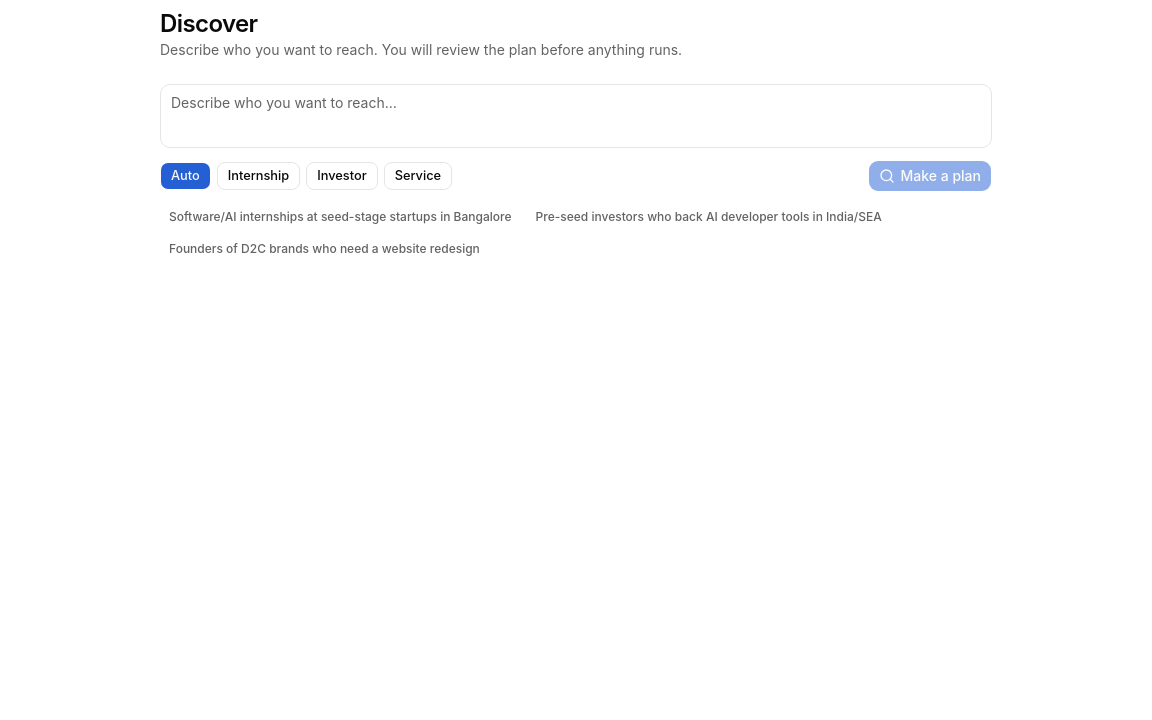
Test: DiscoverPage › flags a template plan clearly
Type "x" into the text box named "Who do you want to reach?" at (576, 116), box [160,84,992,148]
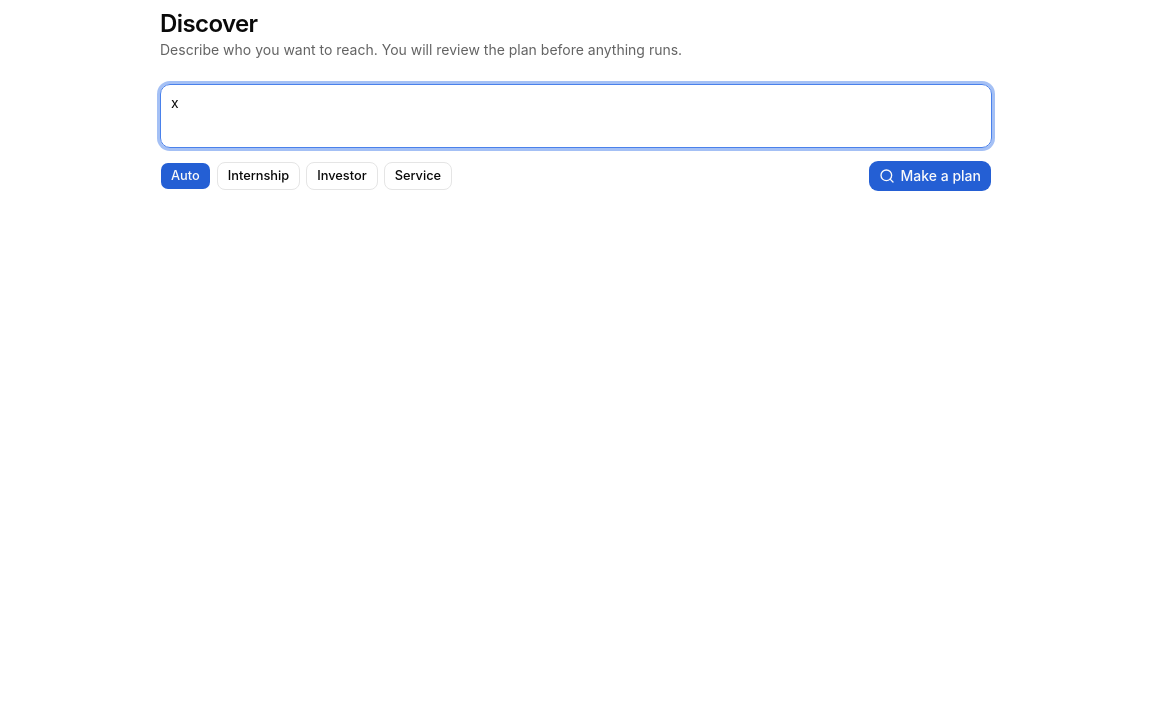
Click the button "Make a plan" at (930, 176), box [868,160,992,192]
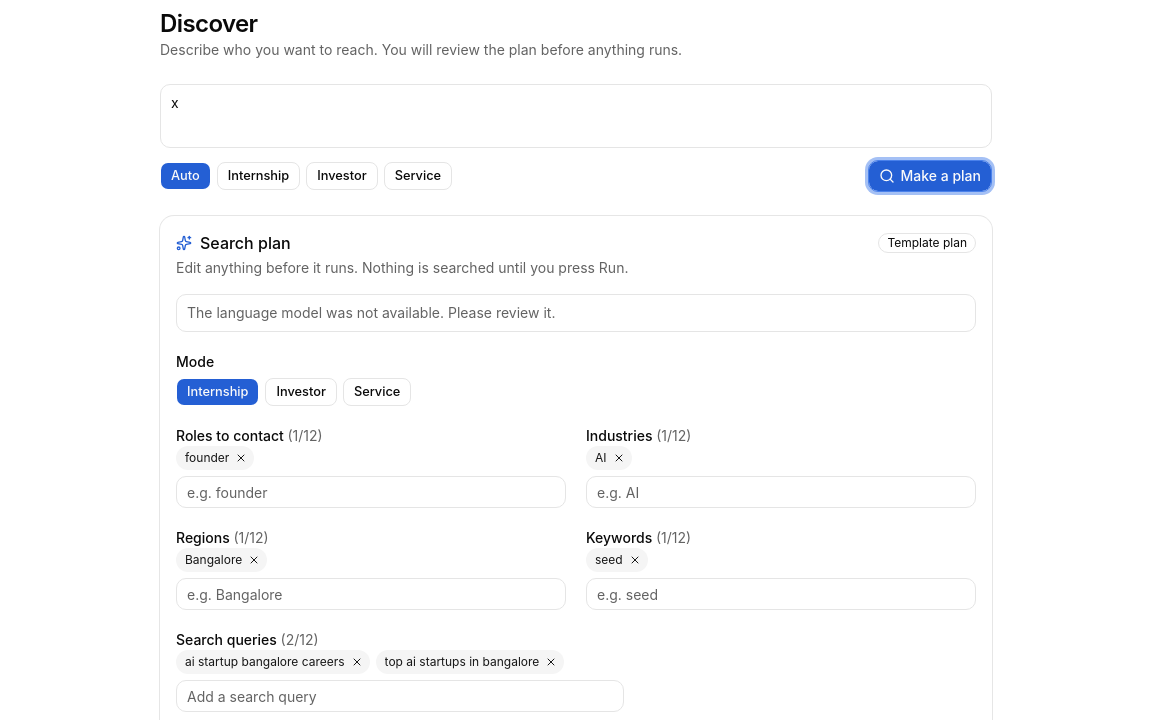
Expected: the text "Template plan" is shown, [878,233,976,253]
Expected: the text "The language model was not available. Please review it." is shown, [187,304,555,321]
